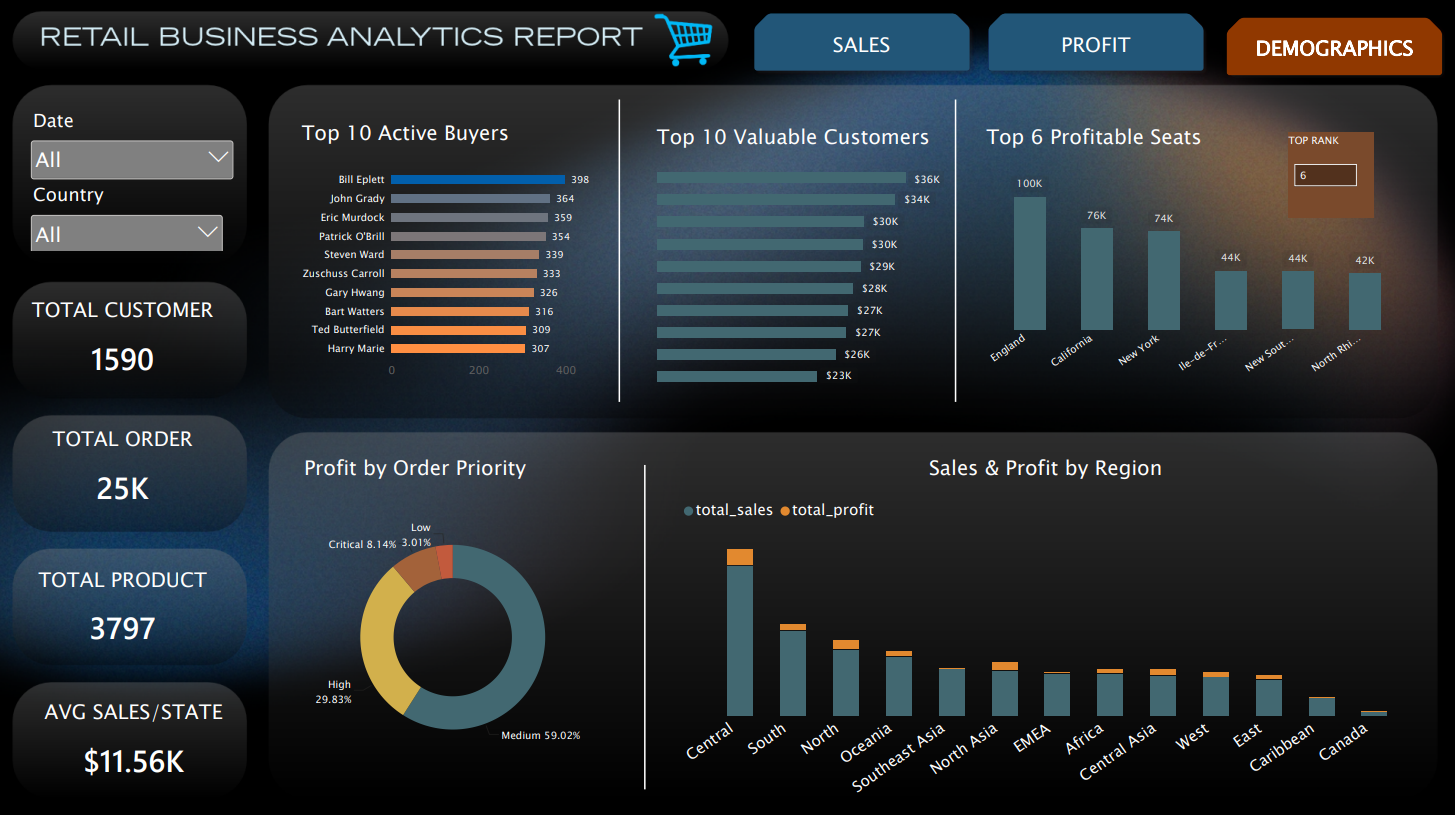

What the dashboard file says about the page in this screenshot:
{"tool":"powerbi","page":{"name":"DEMOGRAPHICS","canvas":[1920,1080],"ordinal":2},"visuals":[{"type":"pageNavigator","box":[985,10,917.5,92.5],"z":0},{"type":"card","title":"TOTAL CUSTOMER","fields":{"Values":["Calculated_Table.total_customer"]},"box":[27.5,375,271.1,136.8],"z":1000},{"type":"card","title":"AVG SALES/STATE","fields":{"Values":["Calculated_Table.avg_sales_state"]},"box":[27.5,905,300,137.1],"z":2000},{"type":"card","title":"TOTAL PRODUCT","fields":{"Values":["Calculated_Table.total_product"]},"box":[27.5,730,271.1,136.8],"z":3000},{"type":"card","title":"TOTAL ORDER","fields":{"Values":["Calculated_Table.total_order"]},"box":[27.5,545,271.1,136.8],"z":4000},{"type":"slicer","fields":{"Values":["location_table.Country"]},"box":[38.1,240.5,261.9,90.5],"z":5000},{"type":"columnChart","title":"Sales & Profit by Region","fields":{"Category":["location_table.Region"],"Y":["Calculated_Table.total_sales","Calculated_Table.total_profit"]},"box":[882.9,582.9,988.6,497.1],"z":6000},{"type":"donutChart","title":"Profit by Order Priority","fields":{"Category":["sales_table.Order Priority"],"Y":["Calculated_Table.total_profit"]},"box":[385.7,582.9,422.9,457.1],"z":7000},{"type":"clusteredBarChart","title":"Top 10 Valuable Customers","fields":{"Category":["sales_table.Customer ID"],"Y":["Calculated_Table.total_sales"]},"box":[850,148.3,408.3,371.7],"z":8000},{"type":"clusteredBarChart","title":"Top 10 Active Buyers","fields":{"Category":["customer_table.Customer Name"],"Y":["Calculated_Table.total_qty"]},"box":[383.3,141.7,425,376.7],"z":9000},{"type":"shape","box":[816.7,613.3,66.7,426.7],"z":10000},{"type":"clusteredColumnChart","fields":{"Category":["location_table.State"],"Y":["Calculated_Table.profit_rank_state"]},"box":[1283.3,146.7,588.3,371.7],"z":11000},{"type":"shape","box":[783.3,131.7,66.7,398.3],"z":12000},{"type":"shape","box":[1225,131.7,66.7,398.3],"z":13000},{"type":"slicer","fields":{"Values":["date_table.Date.Variation.Date Hierarchy.Year","date_table.Date.Variation.Date Hierarchy.Month"]},"box":[38,142,276,98],"z":14000},{"type":"slicer","title":"TOP RANK","fields":{"Values":["Rank_tbl.Rank_tbl"]},"box":[1696,176,112,112],"z":15000}]}

Visuals, with their boxes in screenshot pixels (x1, y1, x2, y2), scaled from the page's 1920x1080 canvas onto the 1455x815 screenshot:
pageNavigator: [x1=746, y1=8, x2=1442, y2=77]
"TOTAL CUSTOMER" card: [x1=21, y1=283, x2=226, y2=386]
"AVG SALES/STATE" card: [x1=21, y1=683, x2=248, y2=786]
"TOTAL PRODUCT" card: [x1=21, y1=551, x2=226, y2=654]
"TOTAL ORDER" card: [x1=21, y1=411, x2=226, y2=515]
slicer - location_table.Country: [x1=29, y1=181, x2=227, y2=250]
"Sales & Profit by Region" columnChart: [x1=669, y1=440, x2=1418, y2=814]
"Profit by Order Priority" donutChart: [x1=292, y1=440, x2=613, y2=785]
"Top 10 Valuable Customers" clusteredBarChart: [x1=644, y1=112, x2=954, y2=392]
"Top 10 Active Buyers" clusteredBarChart: [x1=290, y1=107, x2=613, y2=391]
shape: [x1=619, y1=463, x2=669, y2=785]
clusteredColumnChart - location_table.State x Calculated_Table.profit_rank_state: [x1=973, y1=111, x2=1418, y2=391]
shape: [x1=594, y1=99, x2=644, y2=400]
shape: [x1=928, y1=99, x2=979, y2=400]
slicer - date_table.Date.Variation.Date Hierarchy.Year x date_table.Date.Variation.Date Hierarchy.Month: [x1=29, y1=107, x2=238, y2=181]
"TOP RANK" slicer: [x1=1285, y1=133, x2=1370, y2=217]
